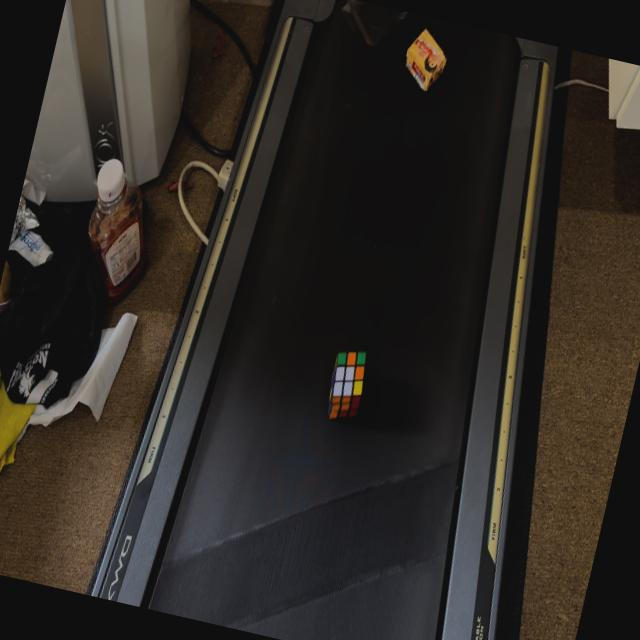Trash: (320, 344, 374, 428), (398, 24, 452, 96)
